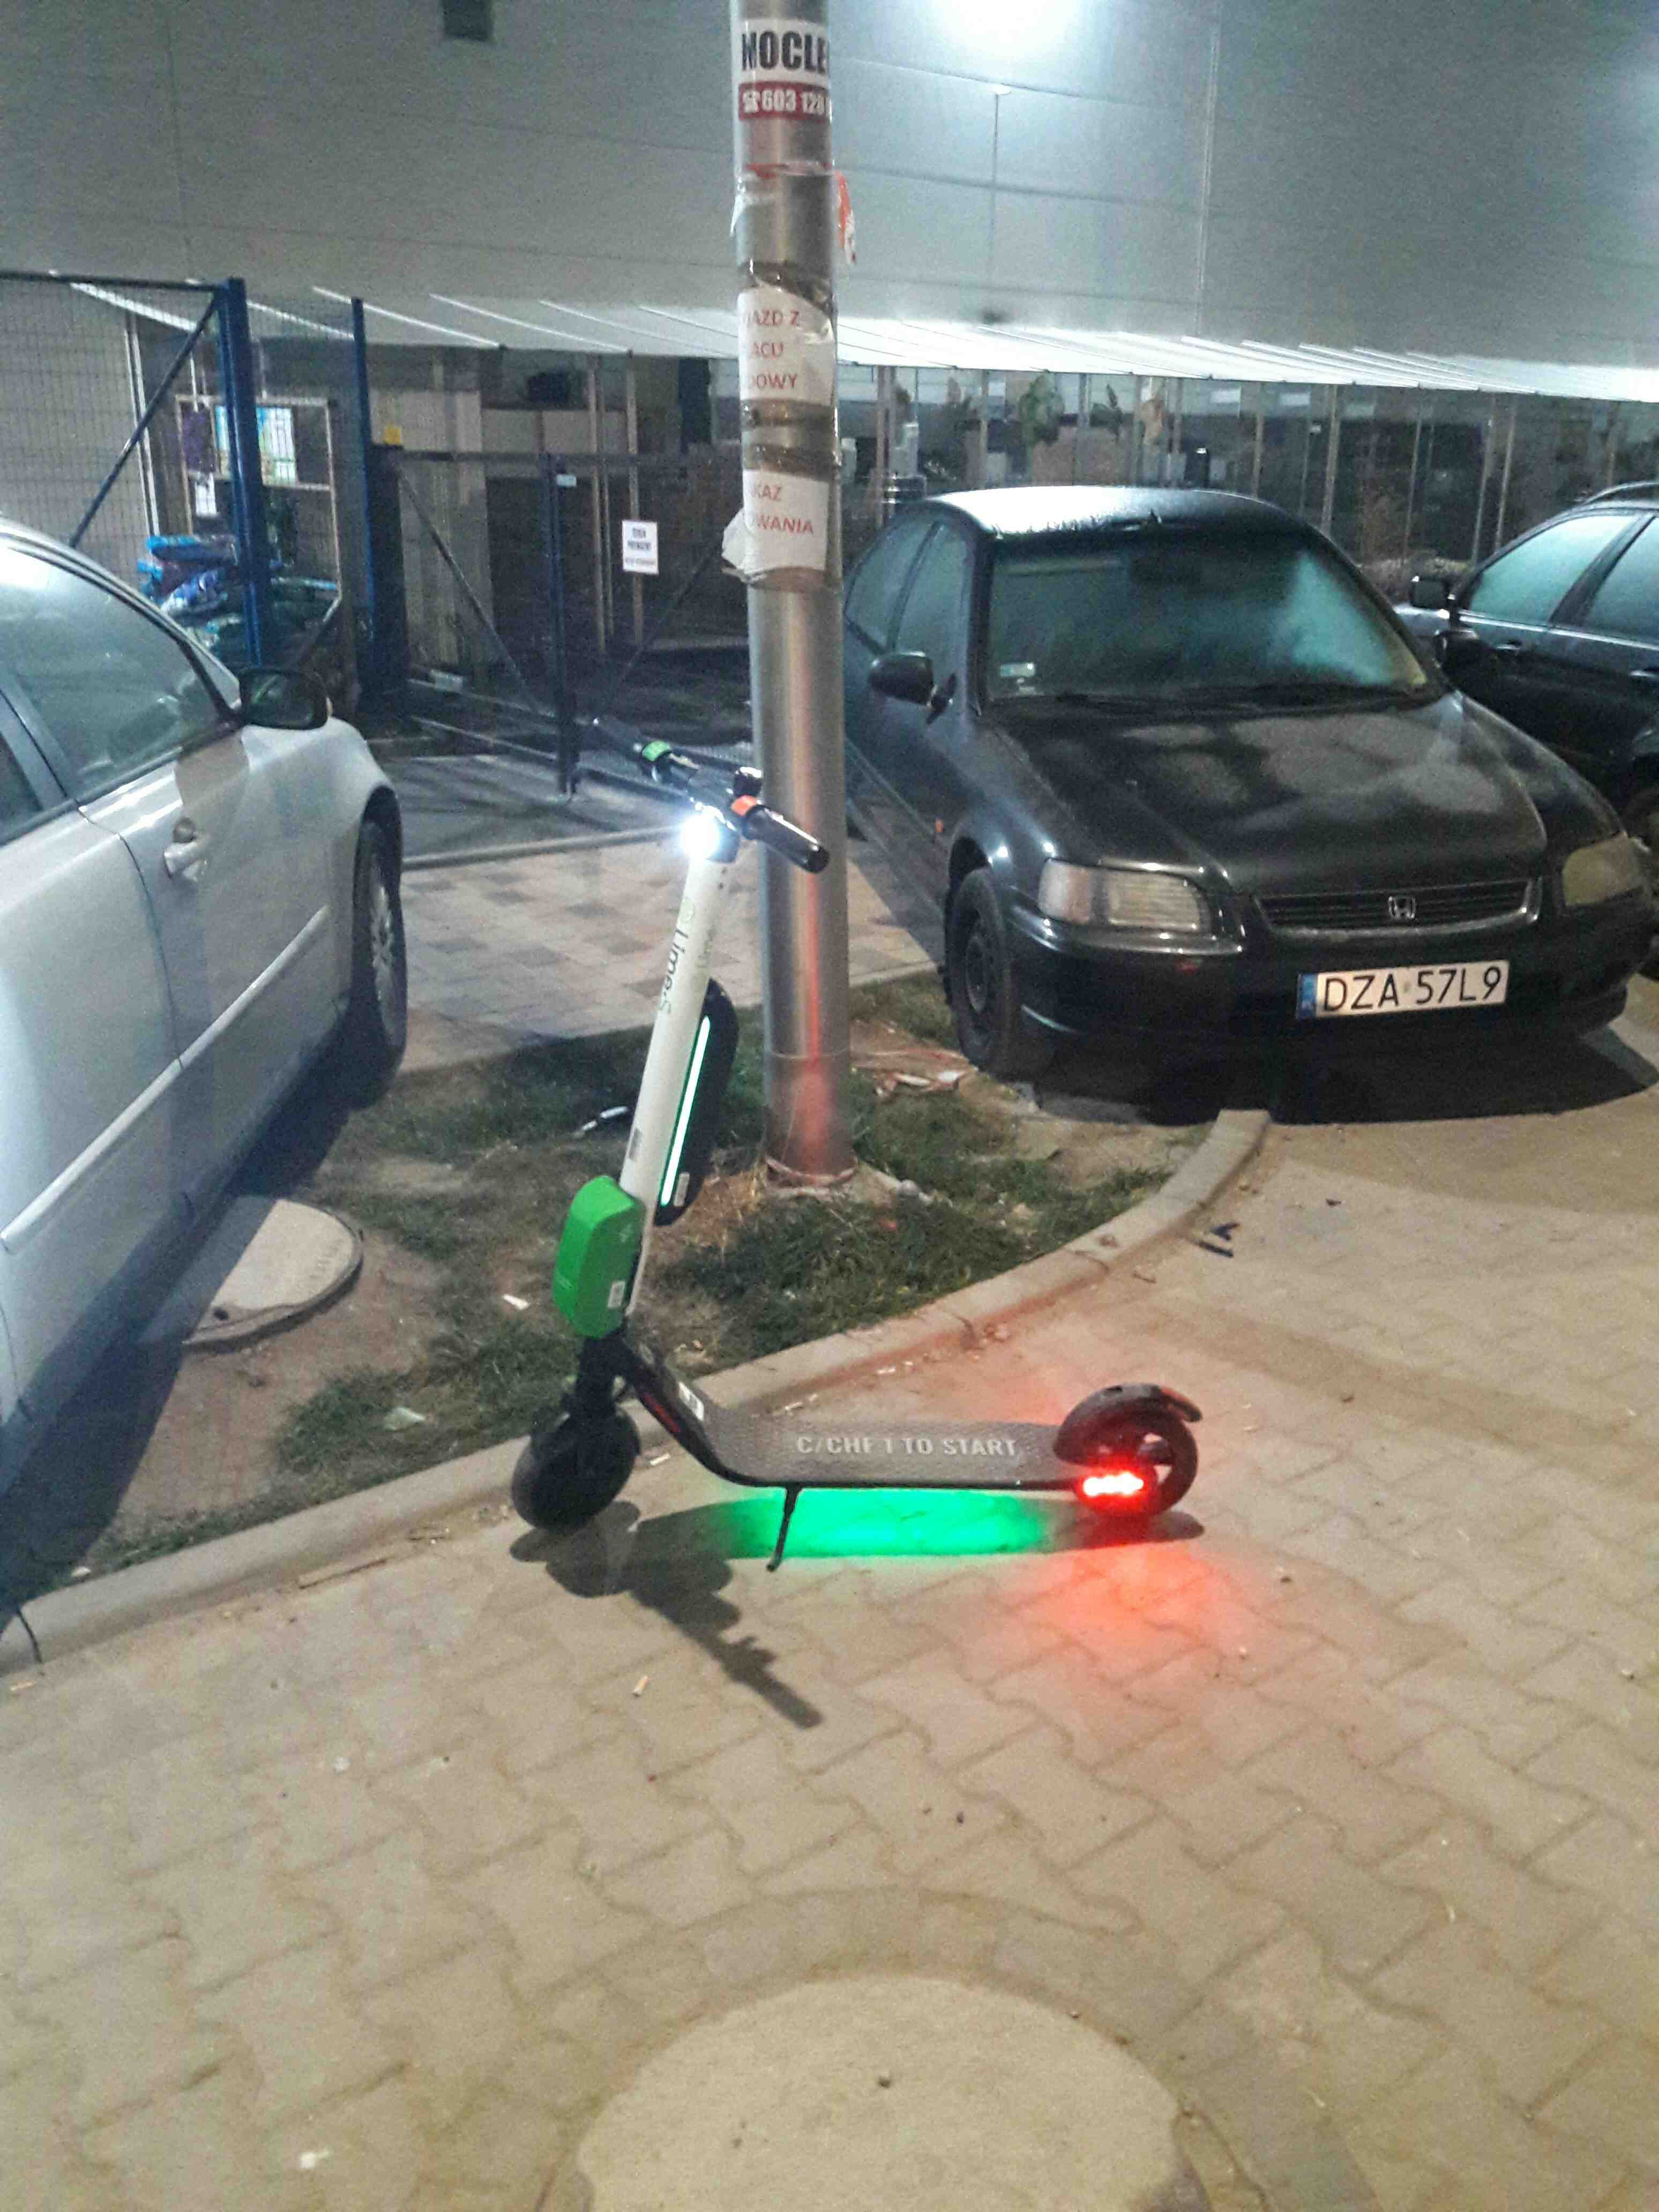scooter: (486, 726, 1211, 1604)
